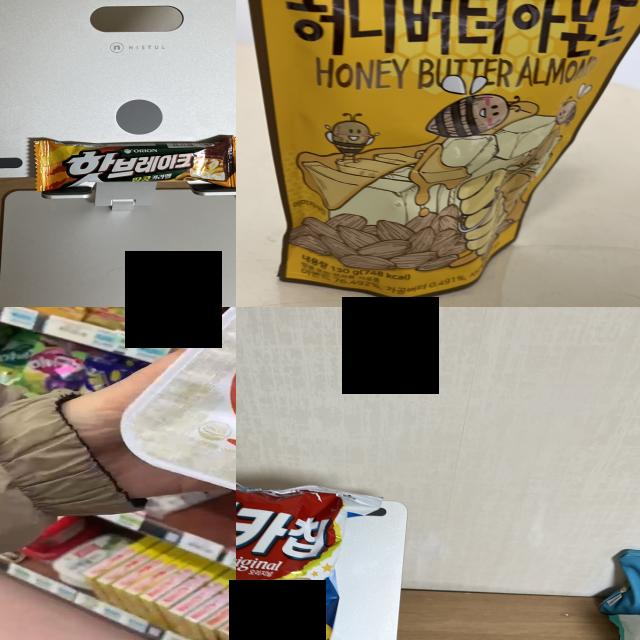bYott: (122, 307, 236, 531)
honeyAmond: (236, 0, 640, 299)
hotBreak: (46, 142, 227, 184)
pokaChip: (236, 476, 344, 640)
